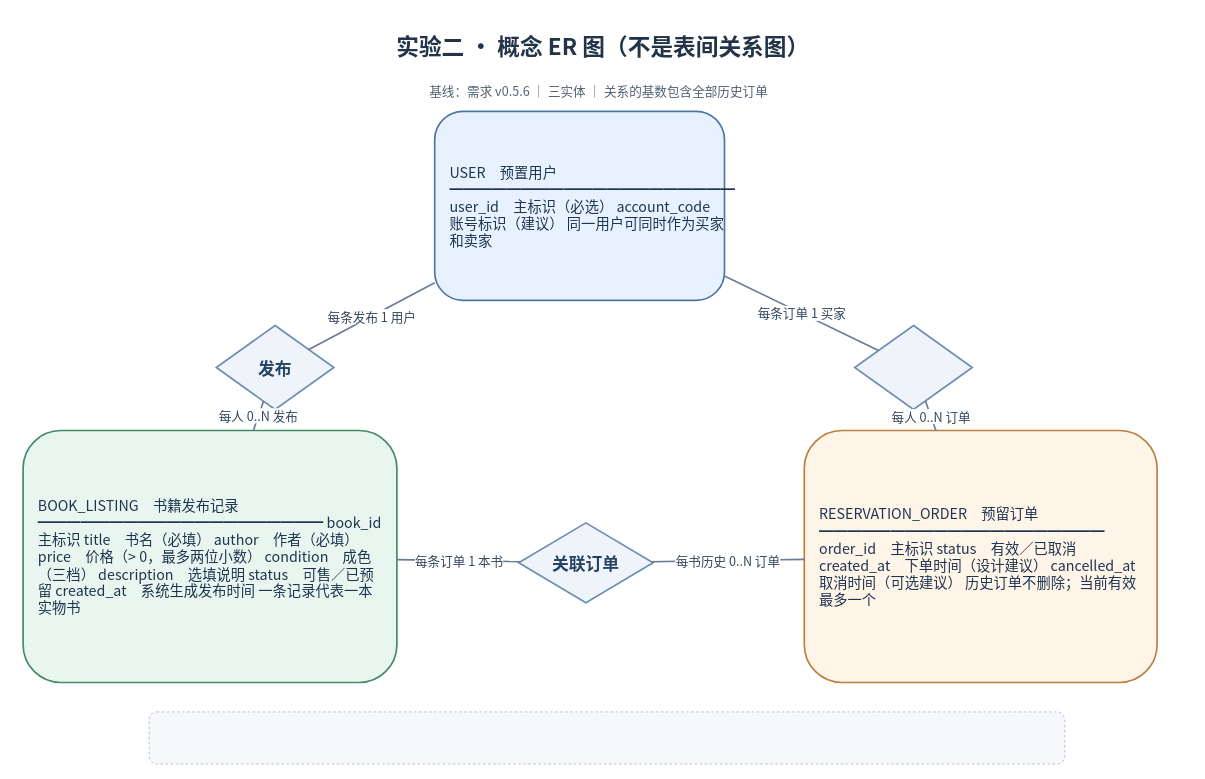
This 1205x779 diagram has some shape labels left out. Here are the shapes that lost their labels. From the top down, the centre of each, then its label:
At (913,367): "预留".
At (606,737): "核心约束：同一本书可有多条历史订单，但同时最多一条有效订单；不允许自购；旧 O1 不得影响新 O2。".
